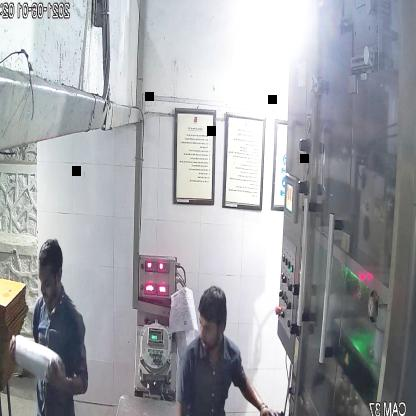no_goggles: (196, 316, 226, 339)
